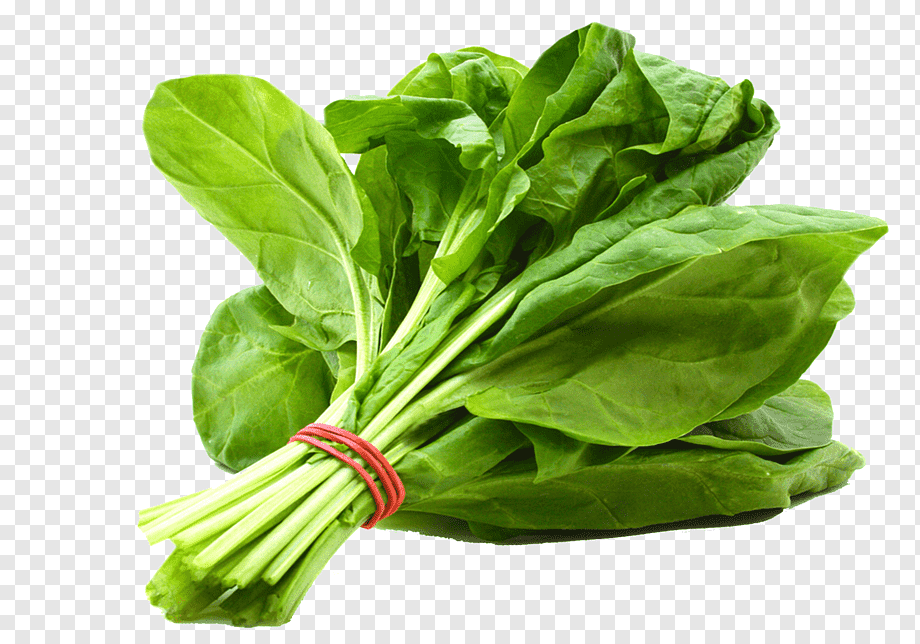Bayam: (124, 27, 902, 636)
